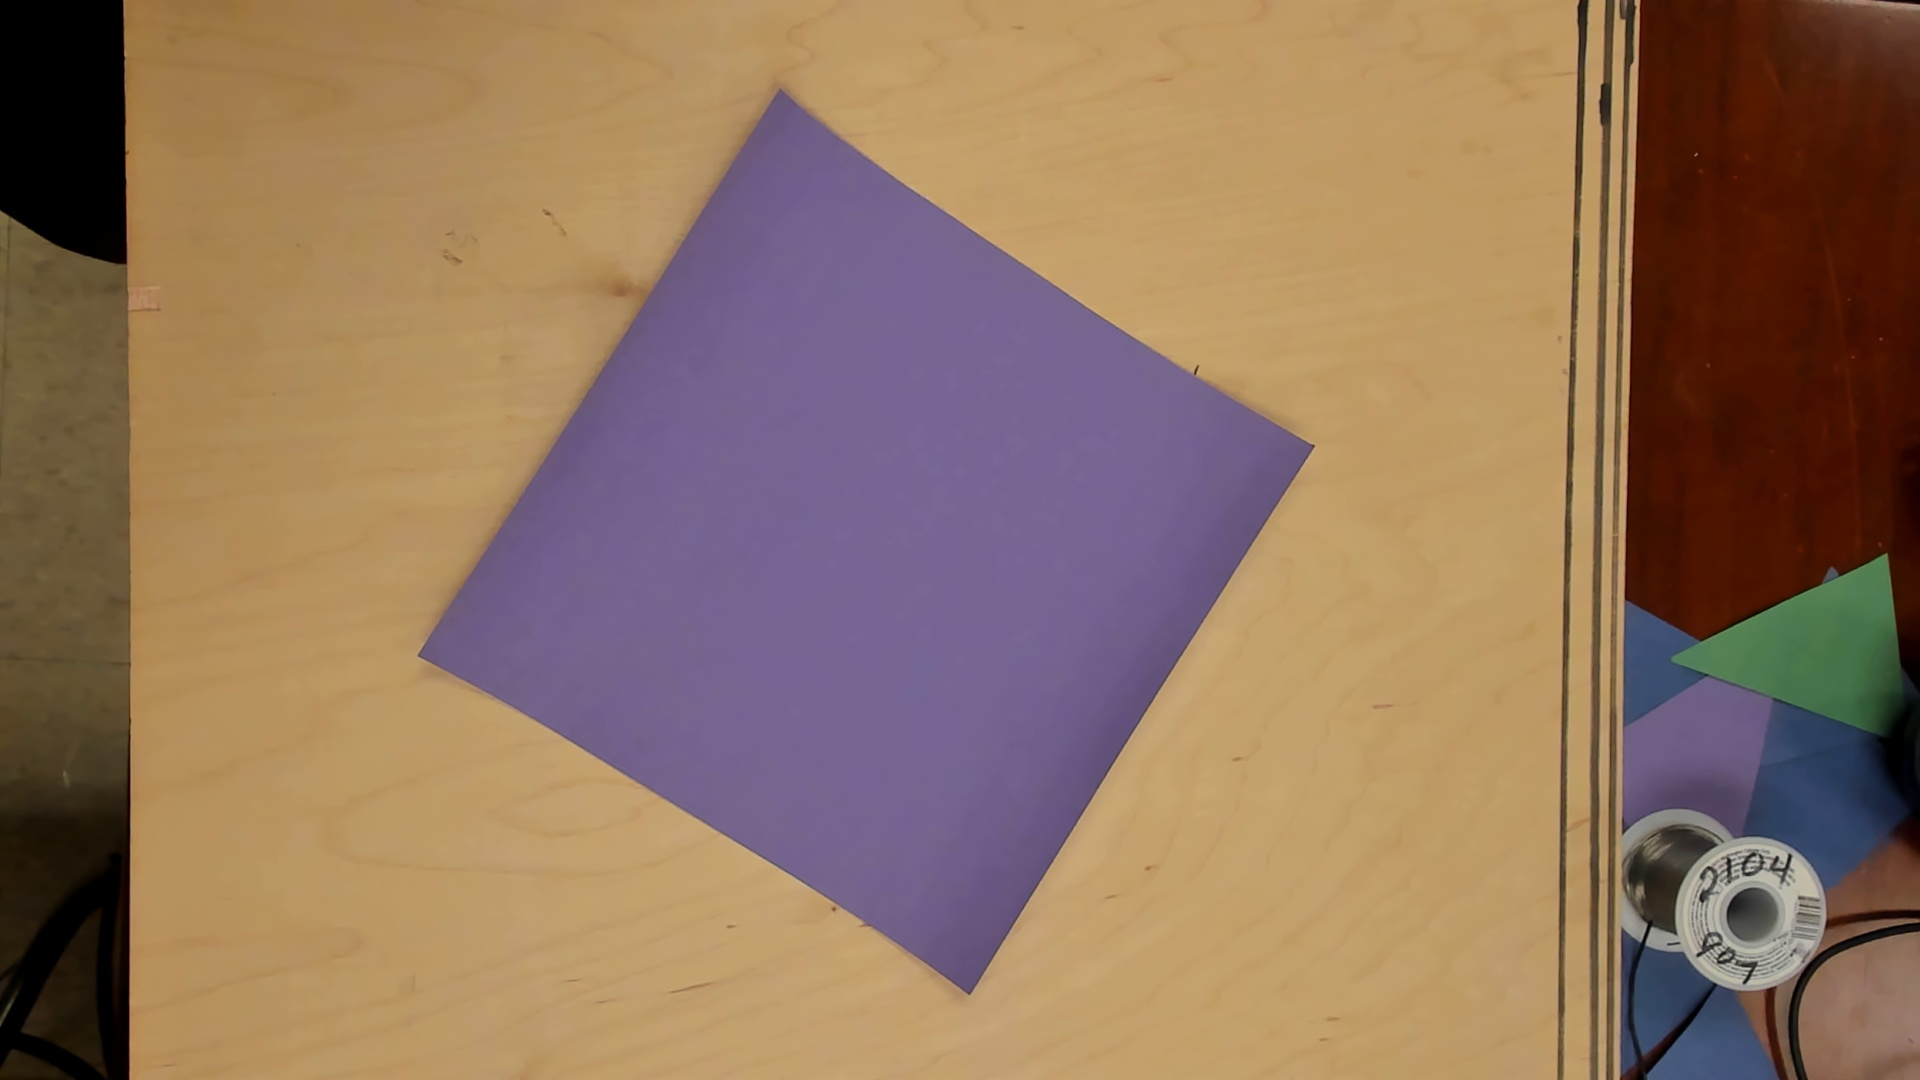PS: (417, 87, 1323, 1000)
